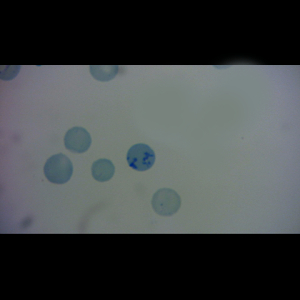aggregate reticulocyte: (125, 142, 157, 173)
erythrocyte: (42, 152, 75, 185), (63, 126, 93, 155), (90, 158, 116, 183)
punctate reticulocyte: (150, 187, 183, 217)
